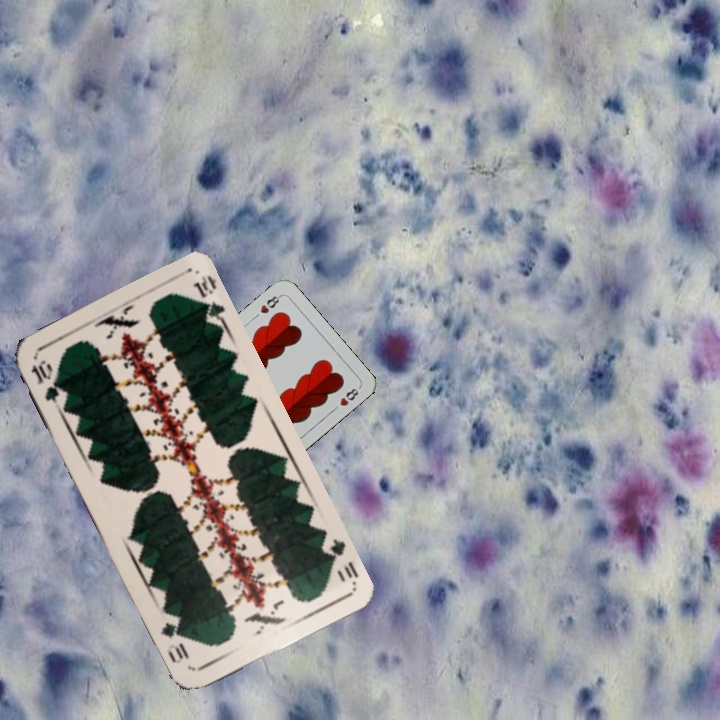G10: (317, 534, 362, 587), (26, 356, 63, 411)
H8: (256, 291, 283, 316)
